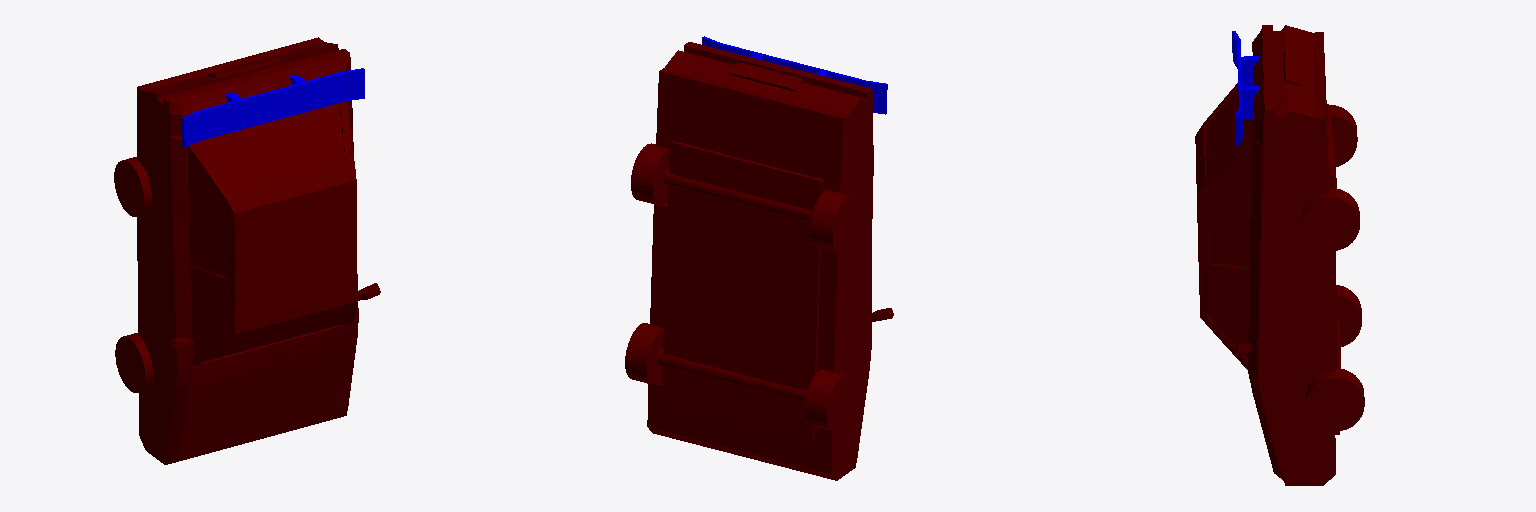
Rendered from red_car.obj.
3 views of the same model, side by side, from view 1: azimuth 30°, elevation 25°; view 2: azimuth 150°, elevation 25°; view 3: azimuth 270°, elevation 25° (orthographic).
Parts seen in each view (by area): view 1: Cylinder.001, Cube.002; view 2: Cylinder.001, Cube.002; view 3: Cylinder.001, Cube.002.
Part boxes in pixels (bbox=[...]): Cylinder.001: bbox=[114, 37, 380, 464]; Cube.002: bbox=[182, 68, 364, 147]; Cylinder.001: bbox=[625, 42, 893, 480]; Cube.002: bbox=[702, 36, 887, 114]; Cylinder.001: bbox=[1195, 25, 1364, 485]; Cube.002: bbox=[1232, 31, 1259, 145].
Bounding box in the file's own units: 2.31 × 3.96 × 1.61.